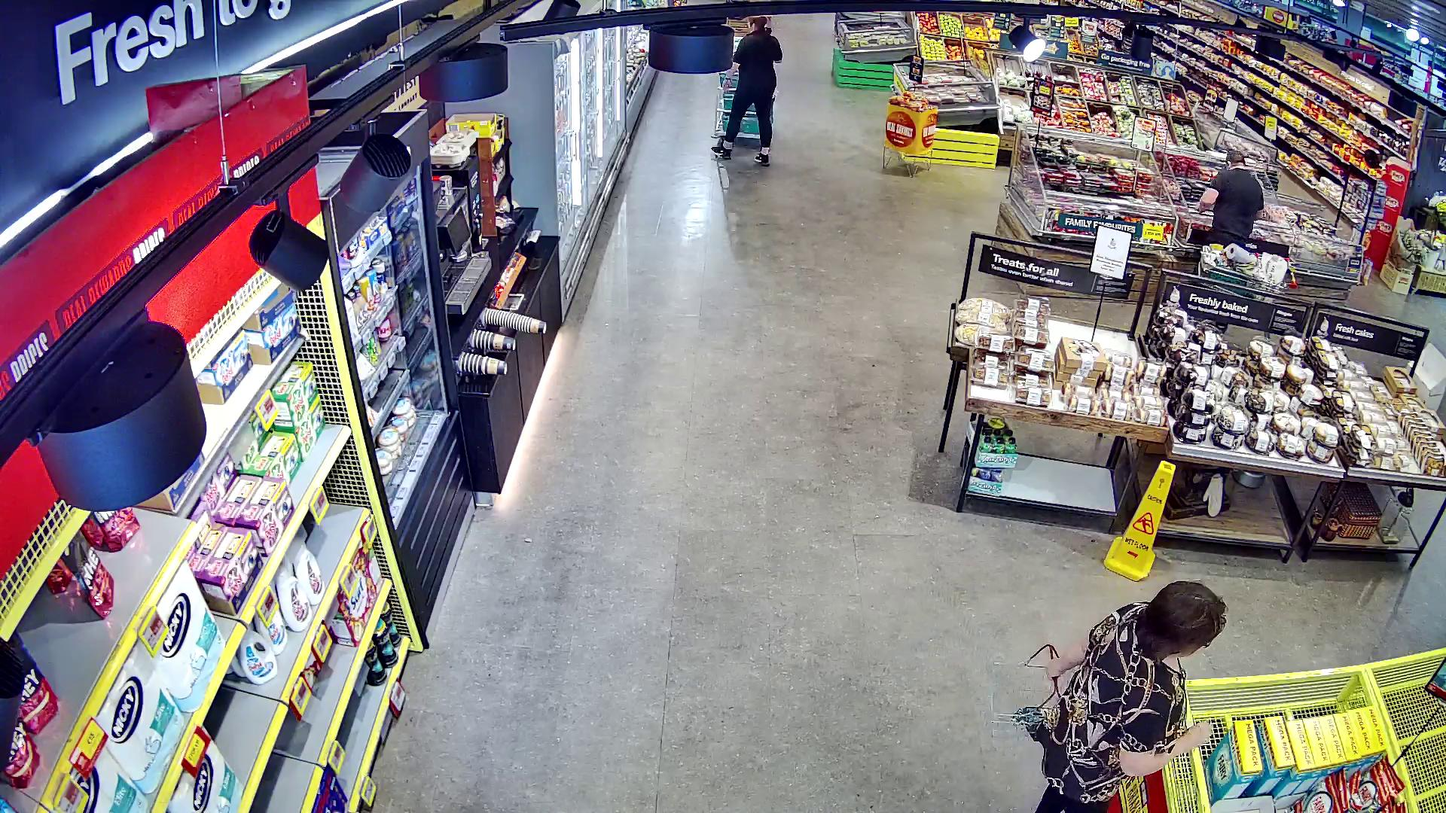filled-basket: (989, 645, 1081, 738)
person: (1042, 581, 1228, 813)
person-with-filled-basket-trolly: (989, 580, 1228, 813)
